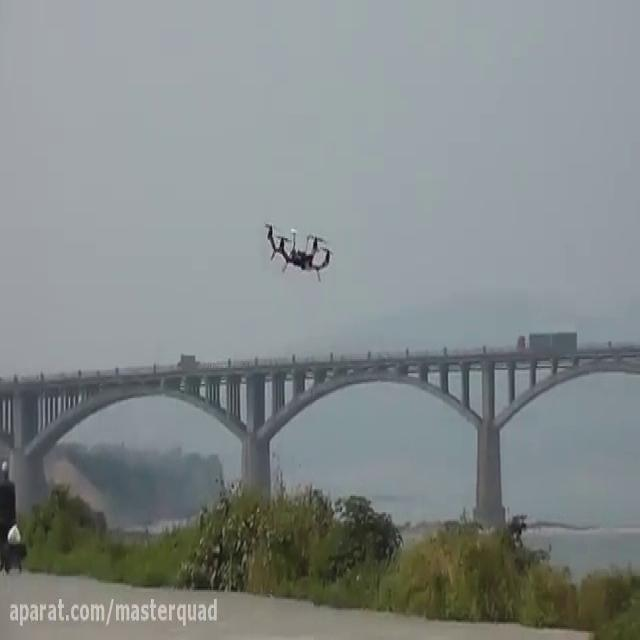drone: (261, 215, 337, 283)
